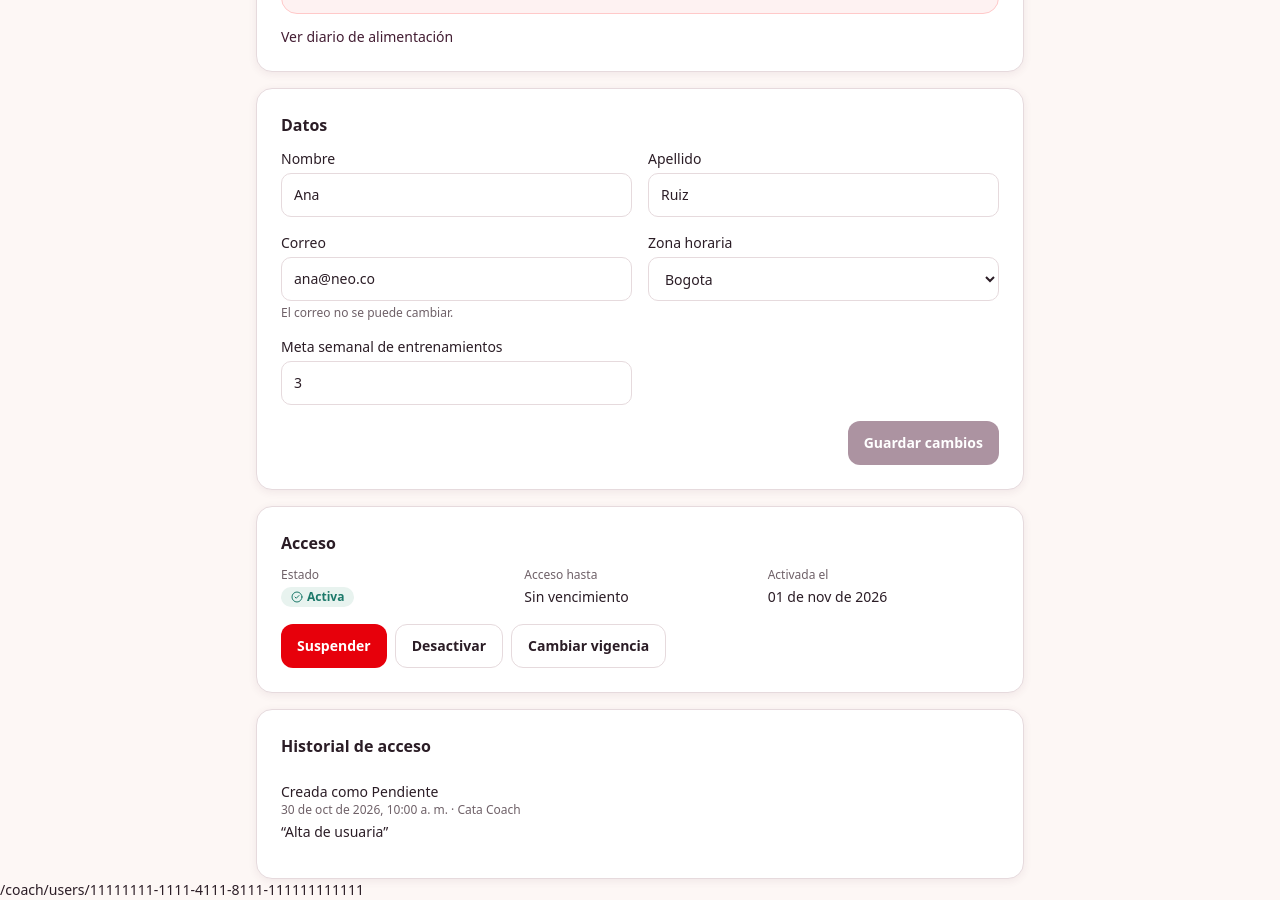
Scenario: UserDetailPage: acceso (HU-06/07/28) › suspender pide confirmación y envía estado + motivo
(page scrolled)
Click the button "Suspender".
click(334, 646)  # box [281, 624, 387, 668]
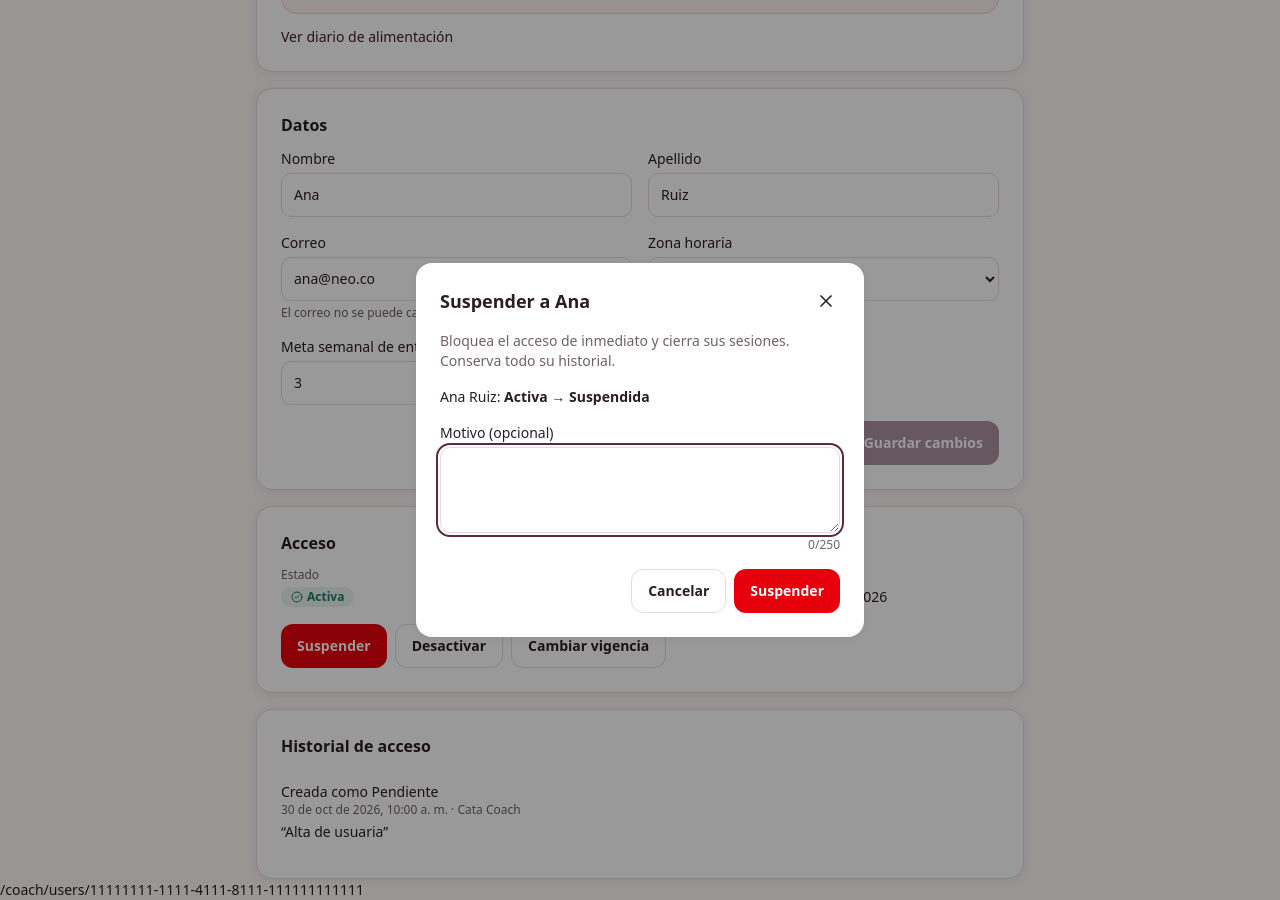
Type "Pago pendiente" into the text box labelled "Motivo (opcional)".
click(640, 490); type("Pago pendiente")  # box [440, 447, 840, 533]
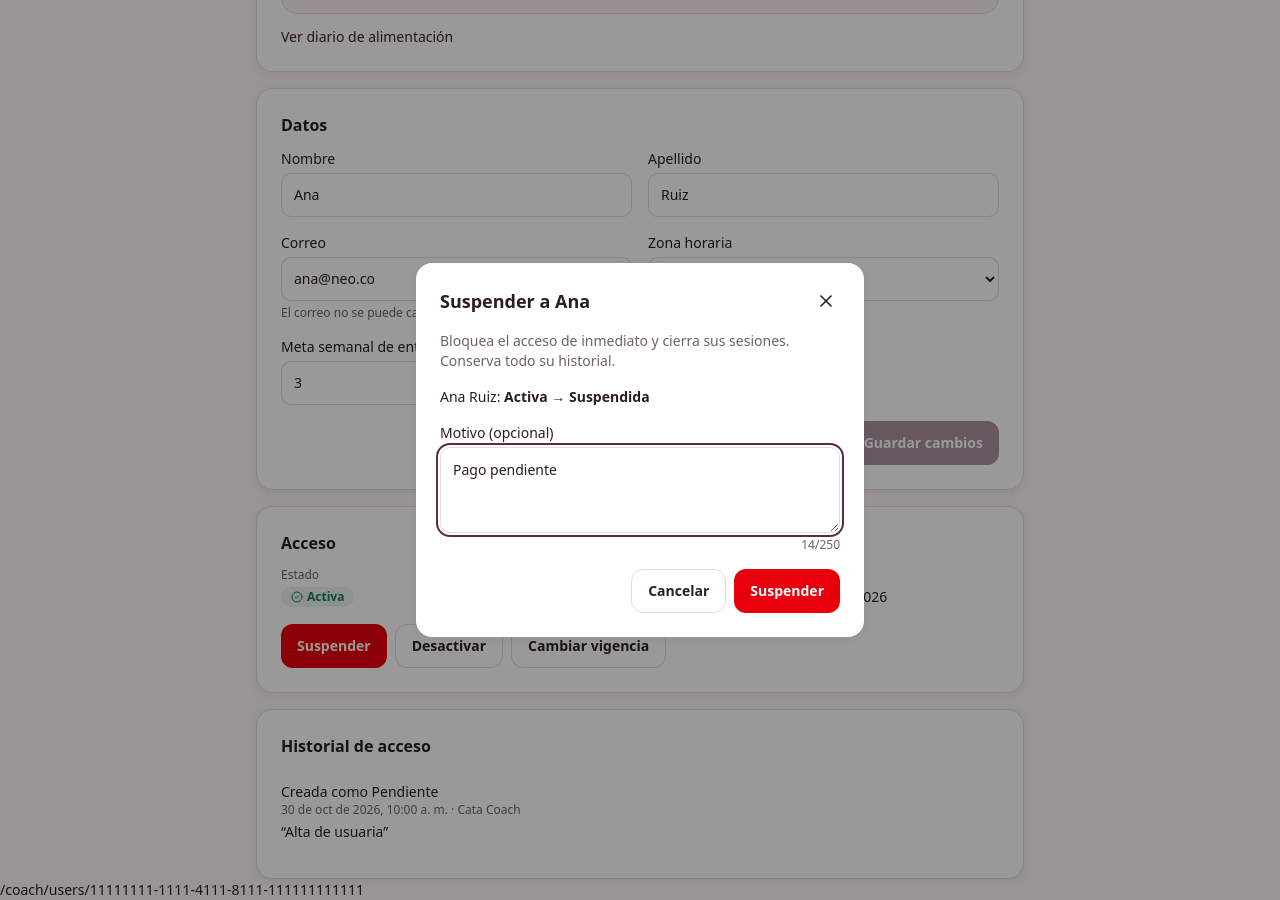
Click the button "Suspender".
click(787, 591)  # box [734, 569, 840, 613]
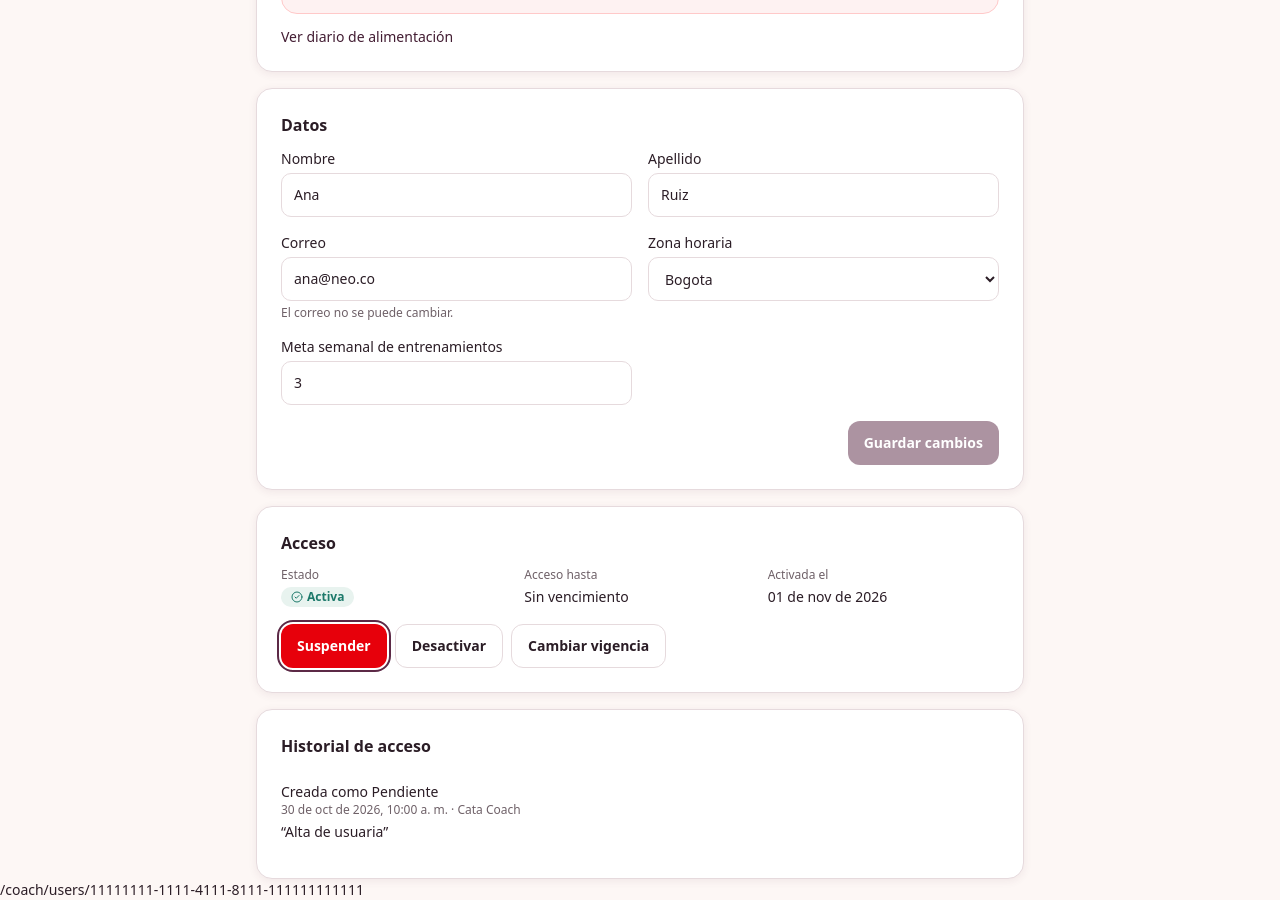
Check: the dialog is gone
